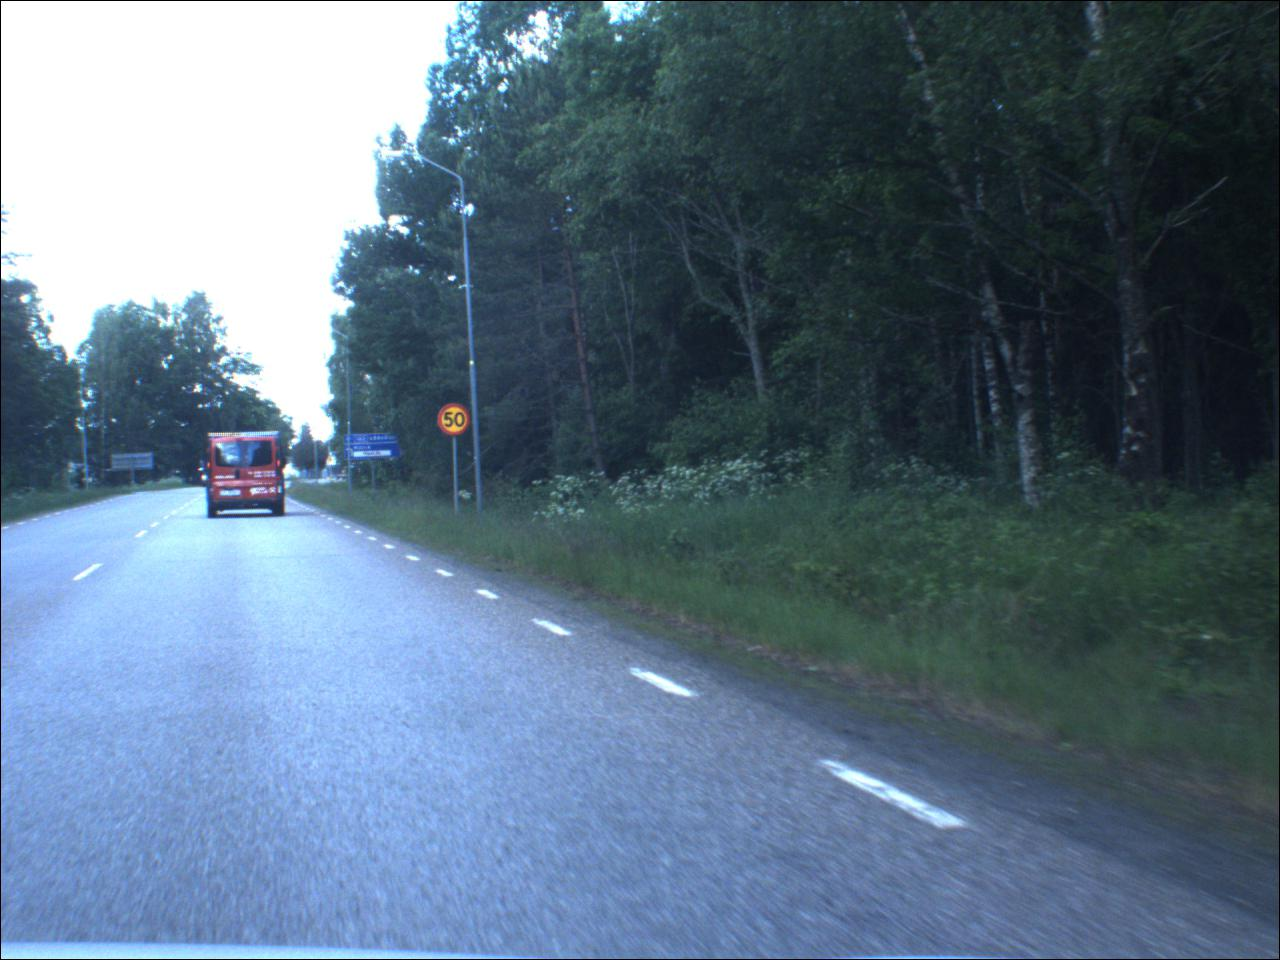50_SIGN: (439, 404, 473, 438)
